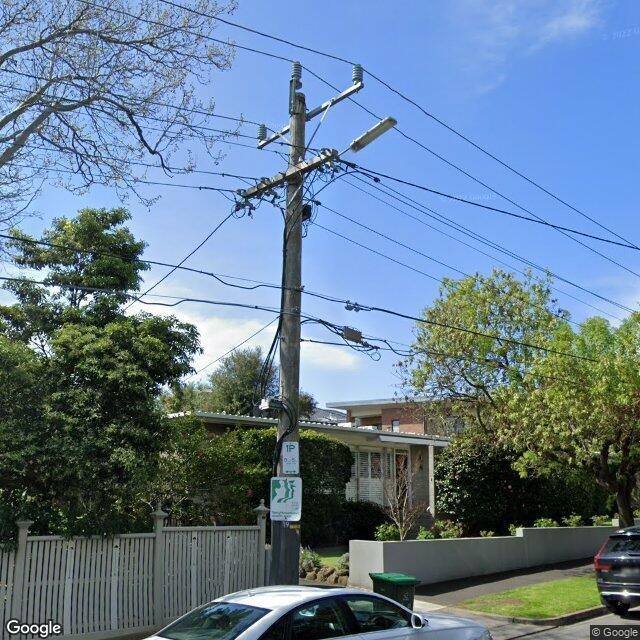HV-transmission: (257, 61, 364, 141)
crossarm: (256, 82, 363, 149), (243, 149, 338, 198)
streetlight: (337, 117, 398, 157)
timber-pole: (269, 92, 306, 586)
